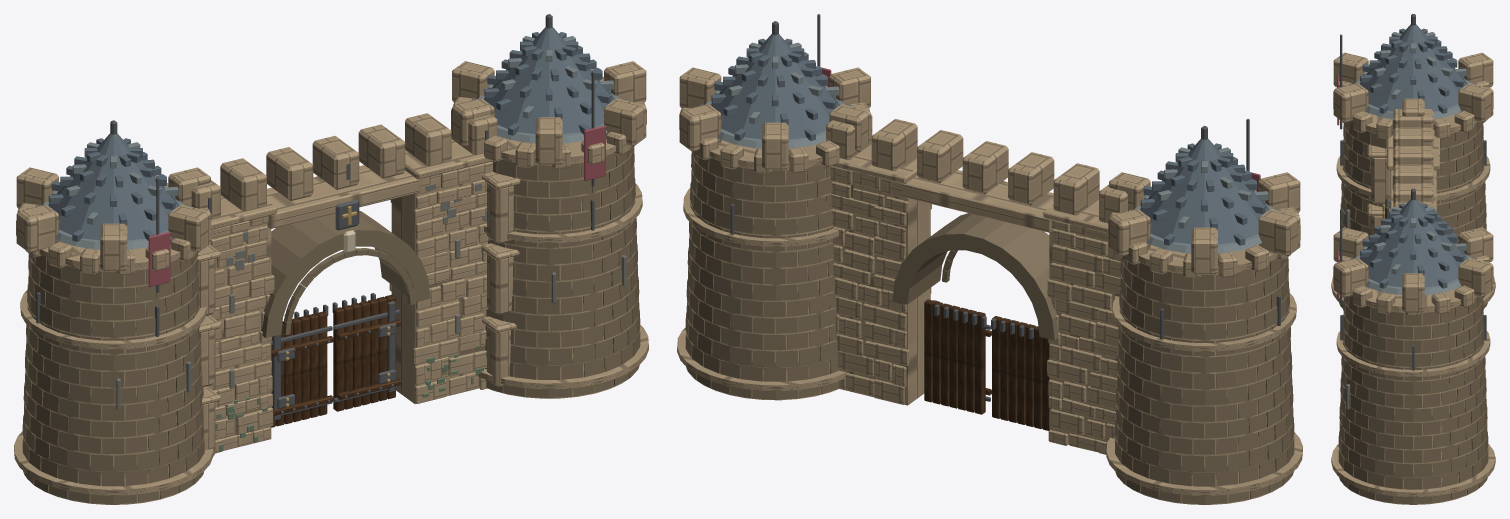
The model's file is valoria_gate_reference.glb.
The picture shows the model from 3 angles, left to right: view 1: azimuth 30°, elevation 25°; view 2: azimuth 150°, elevation 25°; view 3: azimuth 270°, elevation 25°; orthographic projection. The views are drawn at different scales.
Parts seen in each view (by area): view 1: arched_voussoir, gate_flank_tower_radial_ashlar.007, slate_lap_tile.001, gate_flank_tower_recessed_drum, gate_flank_tower_radial_ashlar.028, gate_flank_tower_radial_ashlar.003, gate_flank_tower_radial_ashlar.001, gate_flank_tower_radial_ashlar, gate_flank_tower_radial_ashlar.005, gate_flank_tower_radial_ashlar.023, gate_flank_tower_radial_ashlar.010, black_iron_strap.001 (+7 smaller); view 2: arched_voussoir, gate_flank_tower_radial_ashlar.007, gate_flank_tower_recessed_drum, slate_lap_tile.001, gate_flank_tower_radial_ashlar.003, gate_flank_tower_radial_ashlar, gate_flank_tower_radial_ashlar.010, gate_flank_tower_radial_ashlar.001, gate_flank_tower_radial_ashlar.005, gate_flank_tower_radial_ashlar.023, gate_flank_tower_radial_ashlar.028, vertical_oak_plank (+4 smaller); view 3: arched_voussoir, slate_lap_tile.001, gate_flank_tower_radial_ashlar.028, gate_flank_tower_radial_ashlar.023, gate_flank_tower_radial_ashlar.003, gate_flank_tower_recessed_drum, gate_flank_tower_radial_ashlar.007, gate_flank_tower_radial_ashlar.005, gate_flank_tower_radial_ashlar.010, gate_flank_tower_radial_ashlar, gate_flank_tower_radial_ashlar.001, slate_lap_tile (+1 smaller).
Part boxes in pixels (left/top/right/bottom): arched_voussoir: left=14, top=61, right=648, bottom=495; gate_flank_tower_radial_ashlar.007: left=22, top=159, right=639, bottom=492; slate_lap_tile.001: left=36, top=27, right=626, bottom=241; gate_flank_tower_recessed_drum: left=24, top=153, right=638, bottom=504; gate_flank_tower_radial_ashlar.028: left=25, top=161, right=640, bottom=483; gate_flank_tower_radial_ashlar.003: left=22, top=147, right=639, bottom=502; gate_flank_tower_radial_ashlar.001: left=24, top=146, right=640, bottom=504; gate_flank_tower_radial_ashlar: left=22, top=147, right=637, bottom=504; gate_flank_tower_radial_ashlar.005: left=23, top=156, right=639, bottom=498; gate_flank_tower_radial_ashlar.023: left=25, top=146, right=639, bottom=451; gate_flank_tower_radial_ashlar.010: left=23, top=152, right=634, bottom=474; black_iron_strap.001: left=36, top=14, right=594, bottom=420; arched_voussoir: left=677, top=67, right=1302, bottom=495; gate_flank_tower_radial_ashlar.007: left=687, top=170, right=1292, bottom=504; gate_flank_tower_recessed_drum: left=687, top=158, right=1292, bottom=504; slate_lap_tile.001: left=699, top=34, right=1280, bottom=245; gate_flank_tower_radial_ashlar.003: left=685, top=161, right=1294, bottom=504; gate_flank_tower_radial_ashlar: left=686, top=166, right=1294, bottom=486; gate_flank_tower_radial_ashlar.010: left=685, top=152, right=1279, bottom=498; gate_flank_tower_radial_ashlar.001: left=686, top=151, right=1294, bottom=492; gate_flank_tower_radial_ashlar.005: left=685, top=167, right=1293, bottom=502; gate_flank_tower_radial_ashlar.023: left=687, top=151, right=1292, bottom=486; gate_flank_tower_radial_ashlar.028: left=686, top=164, right=1293, bottom=478; vertical_oak_plank: left=924, top=299, right=1049, bottom=430; arched_voussoir: left=1331, top=52, right=1495, bottom=497; slate_lap_tile.001: left=1350, top=24, right=1476, bottom=288; gate_flank_tower_radial_ashlar.028: left=1338, top=132, right=1487, bottom=476; gate_flank_tower_radial_ashlar.023: left=1339, top=122, right=1488, bottom=504; gate_flank_tower_radial_ashlar.003: left=1341, top=132, right=1485, bottom=502; gate_flank_tower_recessed_drum: left=1341, top=128, right=1485, bottom=504; gate_flank_tower_radial_ashlar.007: left=1339, top=123, right=1488, bottom=494; gate_flank_tower_radial_ashlar.005: left=1338, top=130, right=1487, bottom=489; gate_flank_tower_radial_ashlar.010: left=1338, top=122, right=1487, bottom=482; gate_flank_tower_radial_ashlar: left=1339, top=143, right=1487, bottom=504; gate_flank_tower_radial_ashlar.001: left=1340, top=122, right=1487, bottom=502; slate_lap_tile: left=1355, top=32, right=1471, bottom=294.
Bounding box in the file's own units: 18.11 × 9.68 × 5.06.
Materials: 22 (13 with a texture image).
